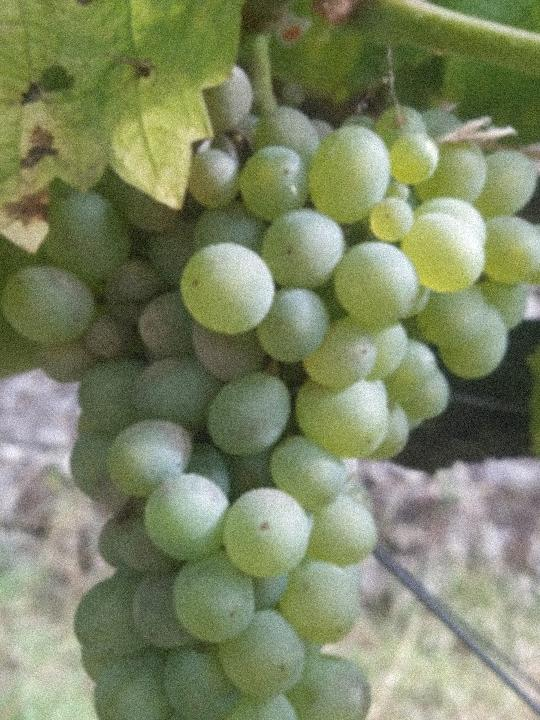grape: (0, 63, 540, 720)
